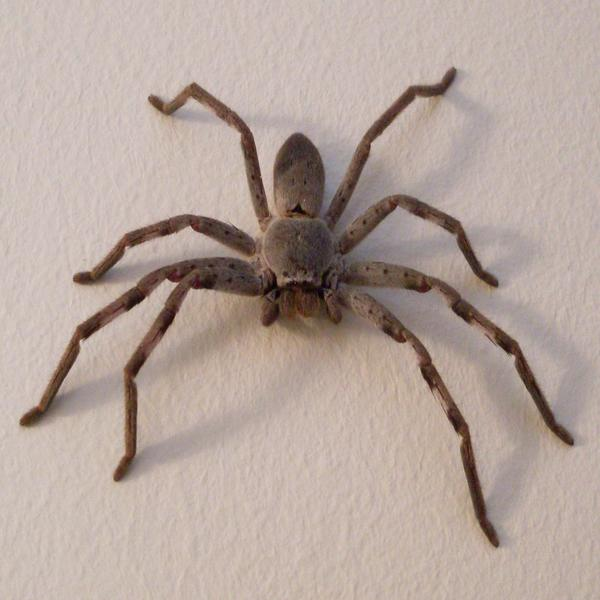Huntsman Spider: (28, 73, 570, 534)
